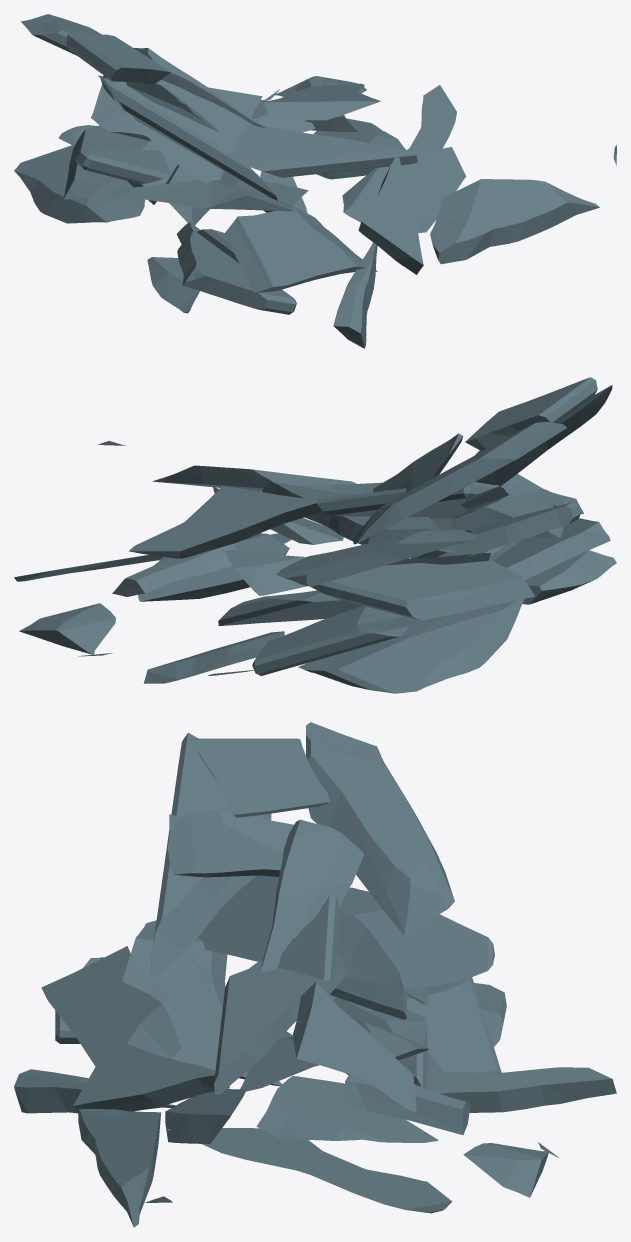
The model's file is bricks 1.fbx.
3 views of the same model, one above another, from view 1: azimuth 30°, elevation 25°; view 2: azimuth 150°, elevation 25°; view 3: azimuth 270°, elevation 25° (orthographic). The views are drawn at different scales.
Visible parts, largest first — view 1: polySurface1, polySurface19, polySurface18, polySurface9, polySurface21, polySurface14, polySurface8, polySurface41, polySurface15, polySurface45, polySurface4, polySurface28 (+15 smaller); view 2: polySurface21, polySurface39, polySurface28, polySurface3, polySurface44, polySurface2, polySurface4, polySurface9, polySurface8, polySurface6, polySurface41, polySurface27 (+14 smaller); view 3: polySurface44, polySurface2, polySurface19, polySurface45, polySurface4, polySurface18, polySurface20, polySurface9, polySurface12, polySurface43, polySurface28, polySurface27 (+15 smaller).
Boxes of the visible parts, x1,y1,x2,y2 form: polySurface1: (430,179,599,264); polySurface19: (224,206,377,292); polySurface18: (232,122,417,177); polySurface9: (101,75,262,183); polySurface21: (14,145,144,223); polySurface14: (342,147,466,232); polySurface8: (176,222,296,314); polySurface41: (108,178,308,211); polySurface15: (358,157,423,274); polySurface45: (98,75,277,200); polySurface4: (66,30,170,83); polySurface28: (264,83,380,120); polySurface21: (298,599,524,693); polySurface39: (310,560,534,620); polySurface28: (129,485,322,558); polySurface3: (252,605,409,675); polySurface44: (352,421,567,544); polySurface2: (276,529,477,586); polySurface4: (465,377,597,451); polySurface9: (316,482,508,518); polySurface8: (494,518,610,579); polySurface6: (218,590,362,625); polySurface41: (427,473,563,538); polySurface27: (138,533,289,601); polySurface44: (306,722,454,935); polySurface2: (337,887,494,988); polySurface19: (41,946,181,1066); polySurface45: (149,732,271,978); polySurface4: (190,738,330,817); polySurface18: (214,954,346,1094); polySurface20: (260,819,363,972); polySurface9: (198,875,339,980); polySurface12: (167,1128,452,1213); polySurface43: (167,810,293,877); polySurface28: (293,982,416,1112); polySurface27: (256,1076,438,1142).
Bounding box in the file's own units: 870 × 422 × 808.
